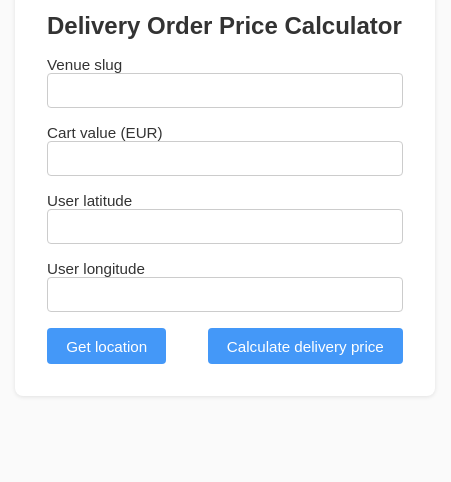
Test: DeliveryPriceForm E2E › doesnt accept wrong latitude/longitude
The width and height of the screenshot is (451, 482).
Type "home-assignment-venue-helsinki" into the field with test id "venueSlug" at (225, 91), box [47,73,403,108]
Type "25.5" into the field with test id "cartValue" at (225, 159), box [47,141,403,176]
Type "90.18858" into the field with test id "userLatitude" at (225, 227), box [47,209,403,244]
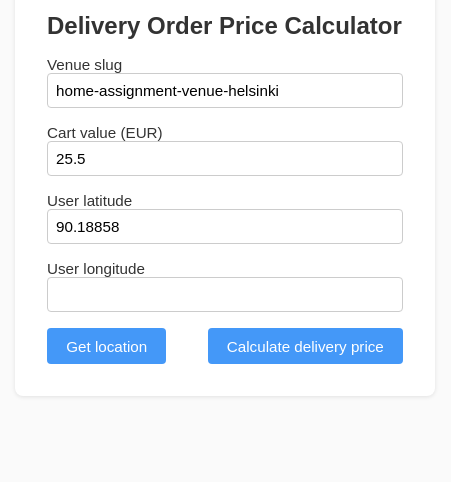
Type "24.92814" into the field with test id "userLongitude" at (225, 295), box [47,277,403,312]
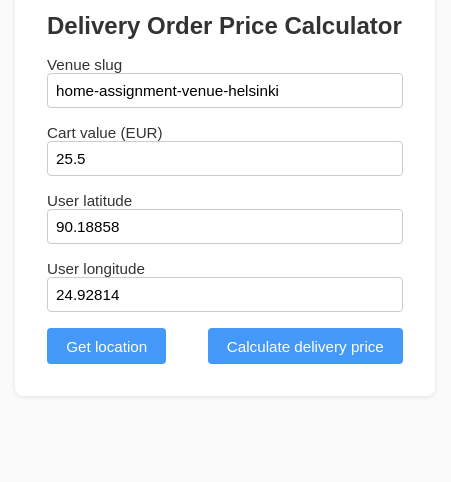
Click the button with test id "calculateDeliveryPrice" at (306, 346), box [208,328,403,364]
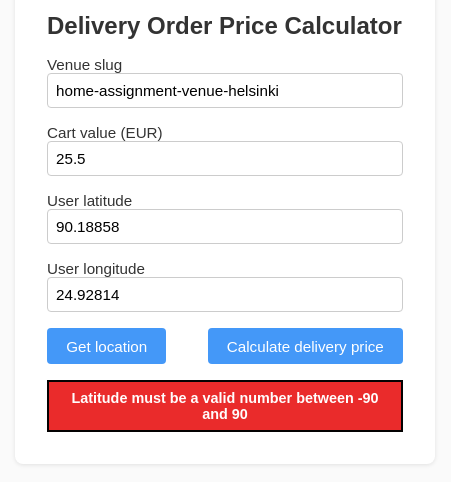
Now the text "Latitude must be a valid number between -90 and 90" is shown, box [47,380,403,432]
Replace the text in the field with test id "userLatitude" with "60.18858" at (225, 227), box [47,209,403,244]
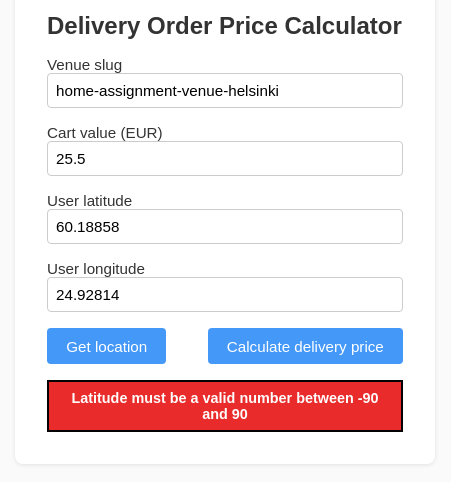
Replace the text in the field with test id "userLongitude" with "-194.92814" at (225, 295), box [47,277,403,312]
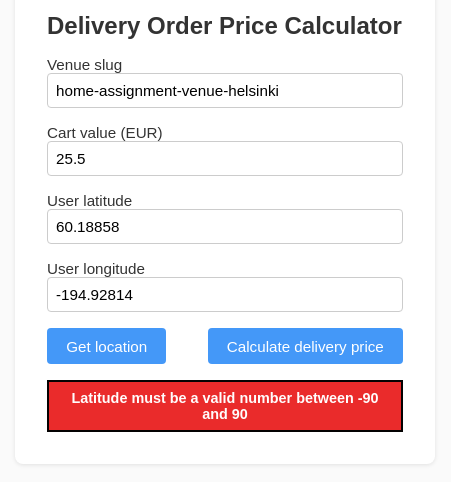
Click the button with test id "calculateDeliveryPrice" at (306, 346), box [208,328,403,364]
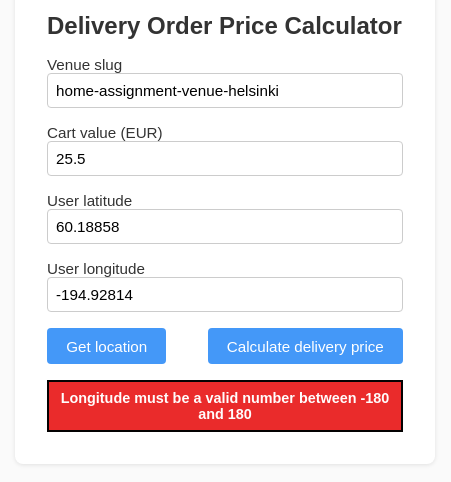
Now the text "Longitude must be a valid number between -180 and 180" is shown, box [47,380,403,432]
